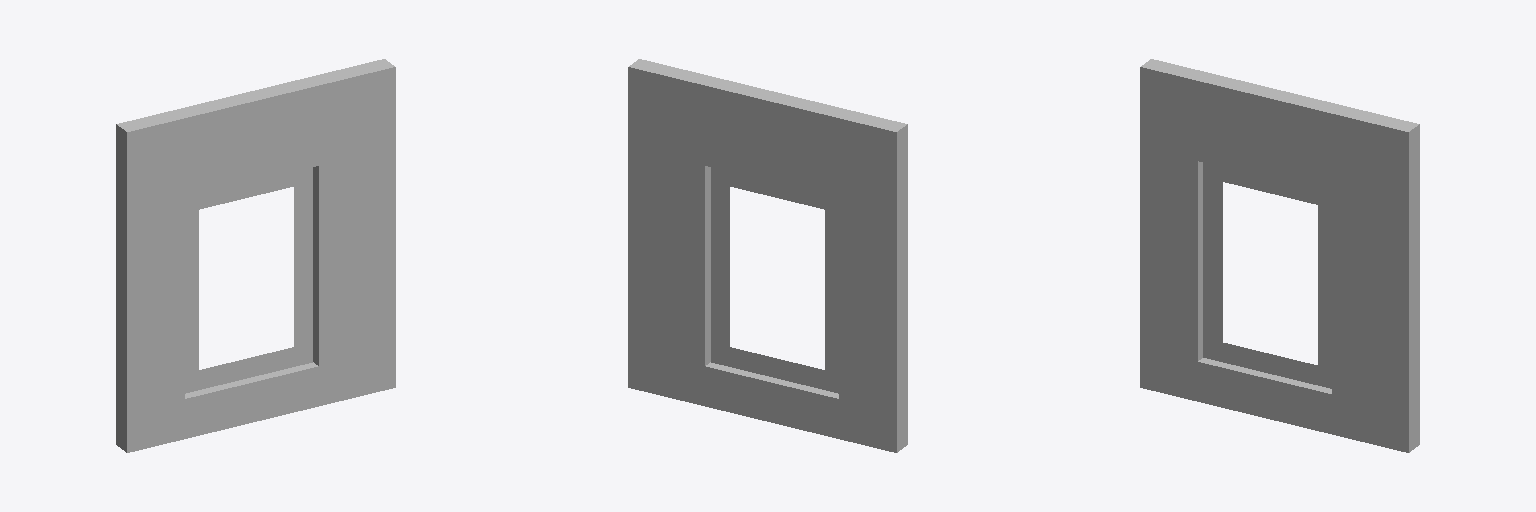
The model's file is df21_cabin_door_upper_right.obj.
The picture shows the model from 3 angles: view 1: azimuth 30°, elevation 25°; view 2: azimuth 150°, elevation 25°; view 3: azimuth 330°, elevation 25°; orthographic projection.
Parts seen in each view (by area): view 1: jss; view 2: jss; view 3: jss.
Boxes of the visible parts, x1=… form: jss: x1=116, y1=59, x2=395, y2=452; jss: x1=628, y1=59, x2=907, y2=452; jss: x1=1140, y1=59, x2=1419, y2=452.
Bounding box in the file's own units: 0.875 × 1 × 0.0625.